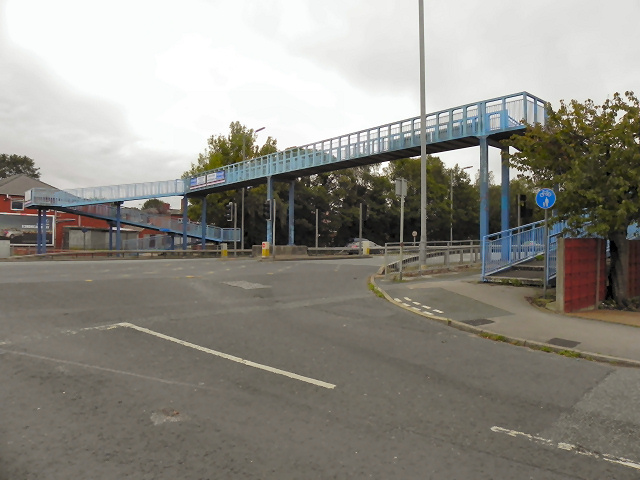bridge: (28, 92, 546, 208)
